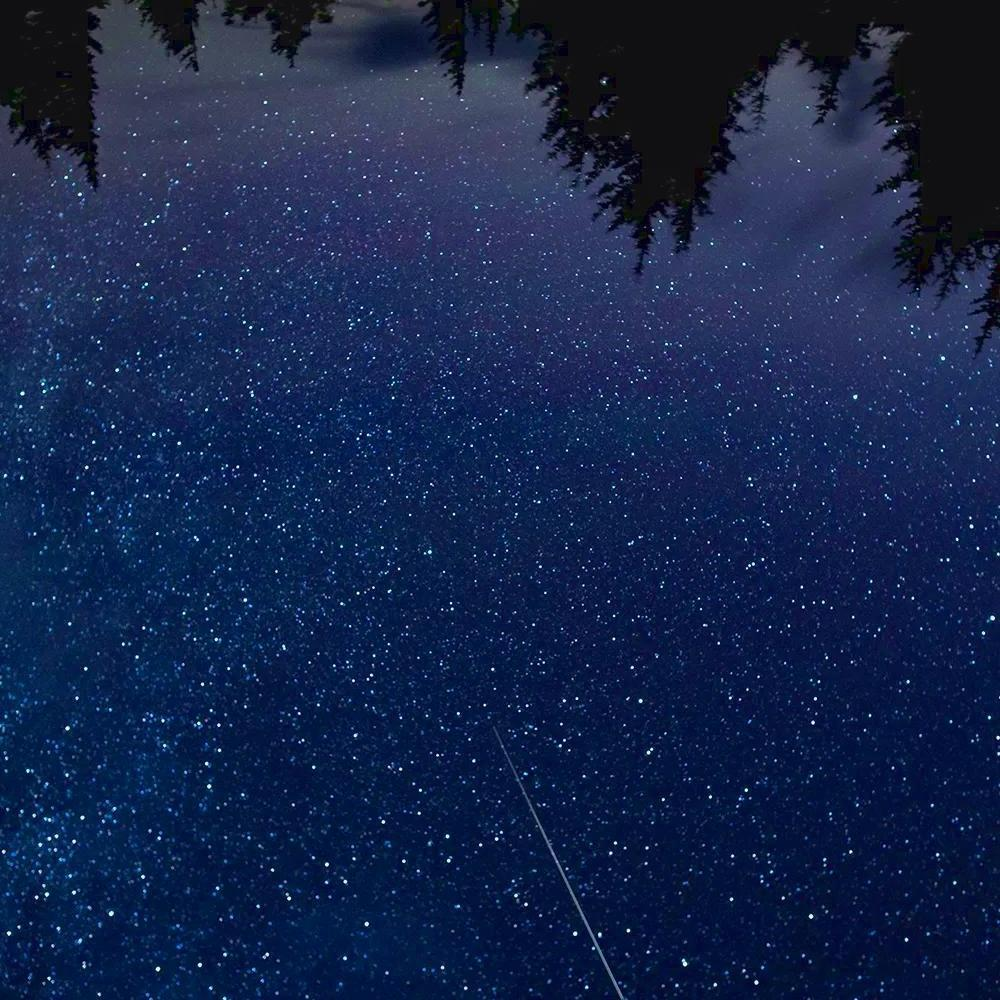meteorite: (479, 732, 645, 1000)
